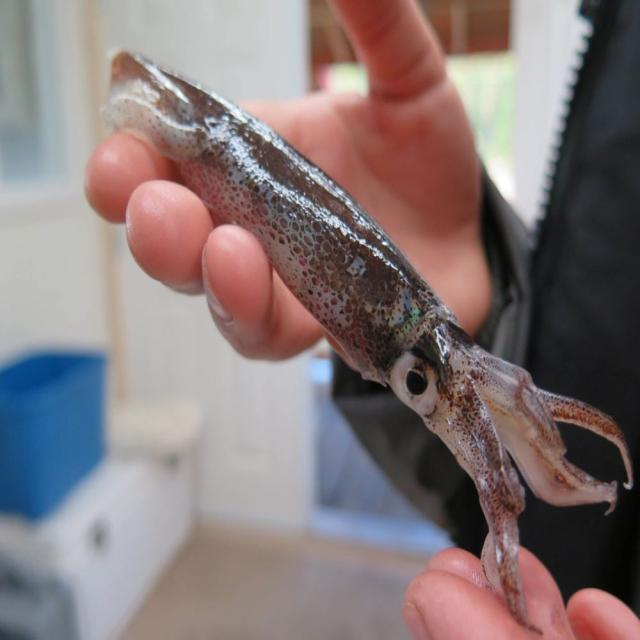SQUID: (82, 37, 634, 594)
